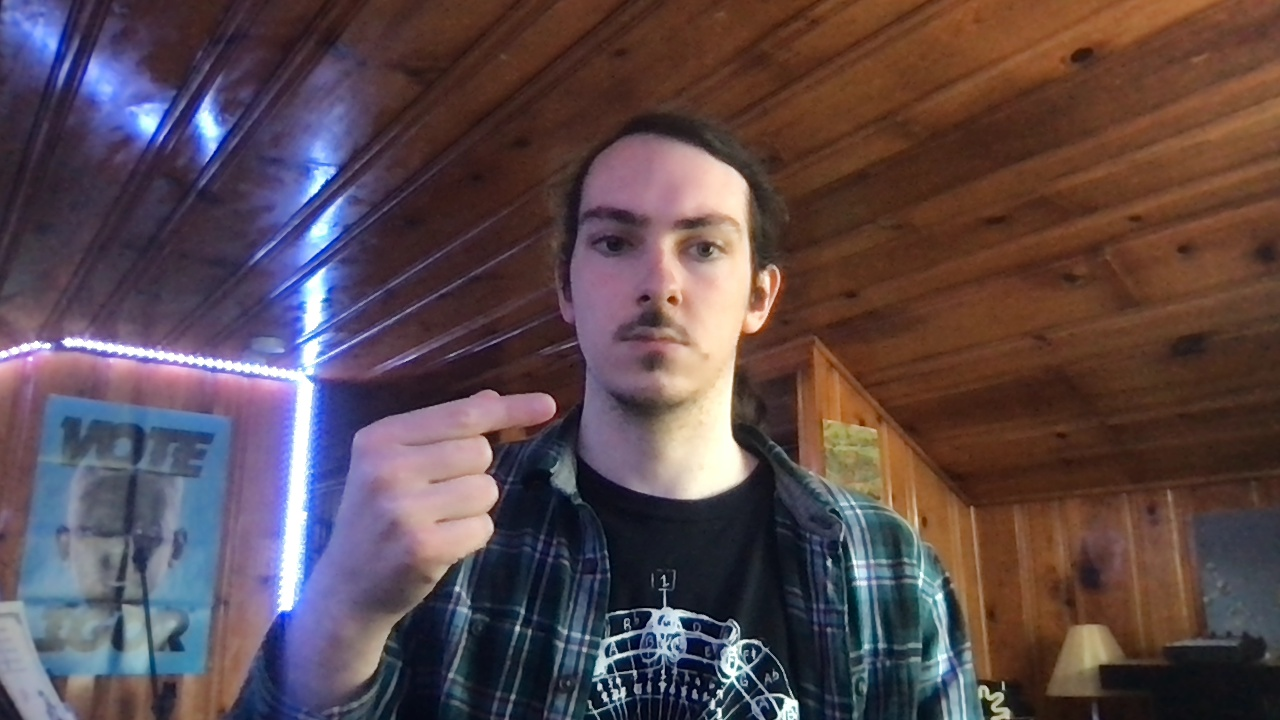g: (326, 386, 561, 614)
